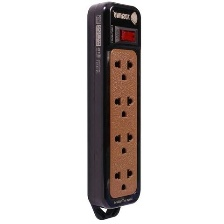three_eye_plug: (84, 0, 145, 210)
